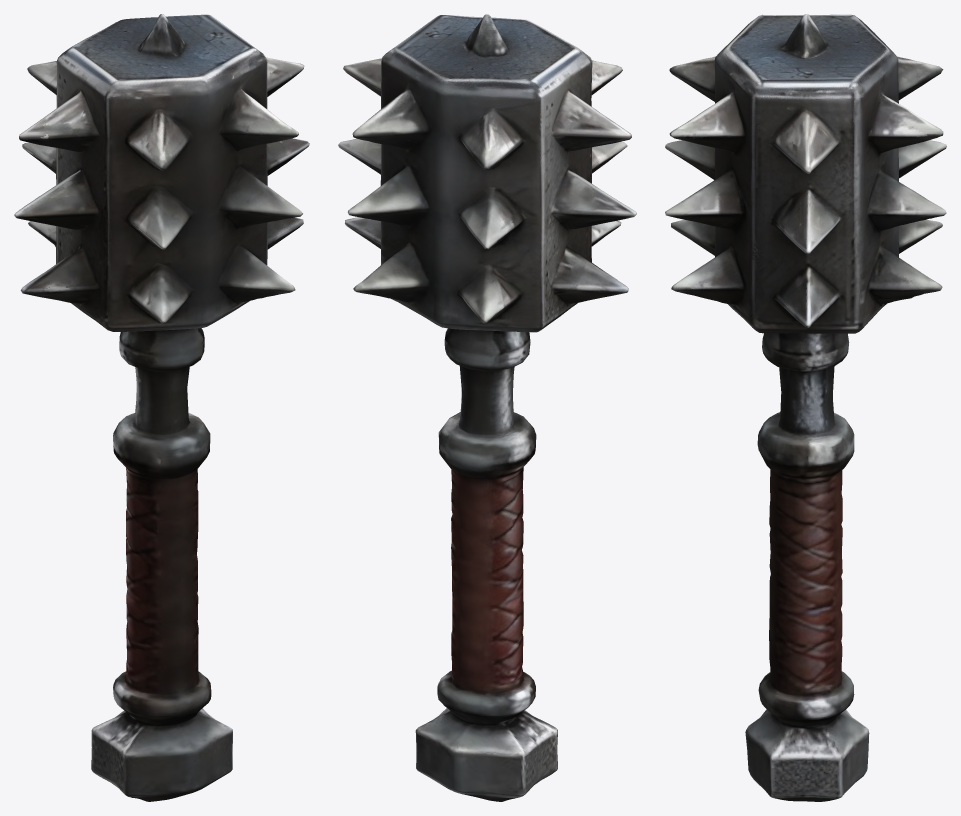
File: studded_mace.glb
3 renders of one model, left to right at view 1: azimuth 30°, elevation 25°; view 2: azimuth 150°, elevation 25°; view 3: azimuth 270°, elevation 25°, orthographic.
Parts seen in each view (by area): view 1: studded_mace; view 2: studded_mace; view 3: studded_mace.
Boxes of the visible parts, x1,y1,x2,y2 form: studded_mace: (14,14,309,801); studded_mace: (338,14,636,801); studded_mace: (665,14,946,801).
Size of the model in its own units: 0.2969 by 0.744 by 0.2444.
1 material, 1 textured.
